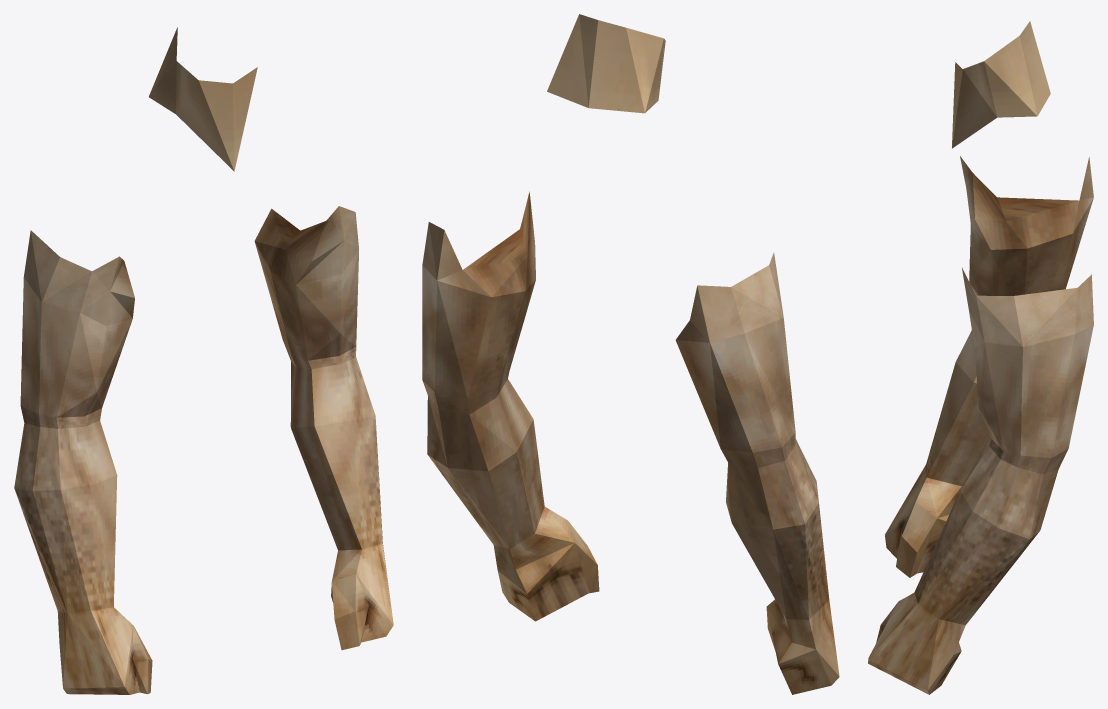
The model's file is Armor_SLD_M.glb.
3 renders of one model, left to right at view 1: azimuth 30°, elevation 25°; view 2: azimuth 150°, elevation 25°; view 3: azimuth 270°, elevation 25°, orthographic. The views are drawn at different scales.
Parts seen in each view (by area): view 1: Armor_SLD_Mzm_Body; view 2: Armor_SLD_Mzm_Body; view 3: Armor_SLD_Mzm_Body.
Part boxes in pixels (<box>): Armor_SLD_Mzm_Body: <box>14,27,393,694</box>; Armor_SLD_Mzm_Body: <box>422,14,839,694</box>; Armor_SLD_Mzm_Body: <box>868,21,1093,694</box>.
Bounding box in the file's own units: 0.5626 × 0.9508 × 0.3166.
1 material, 1 textured.
